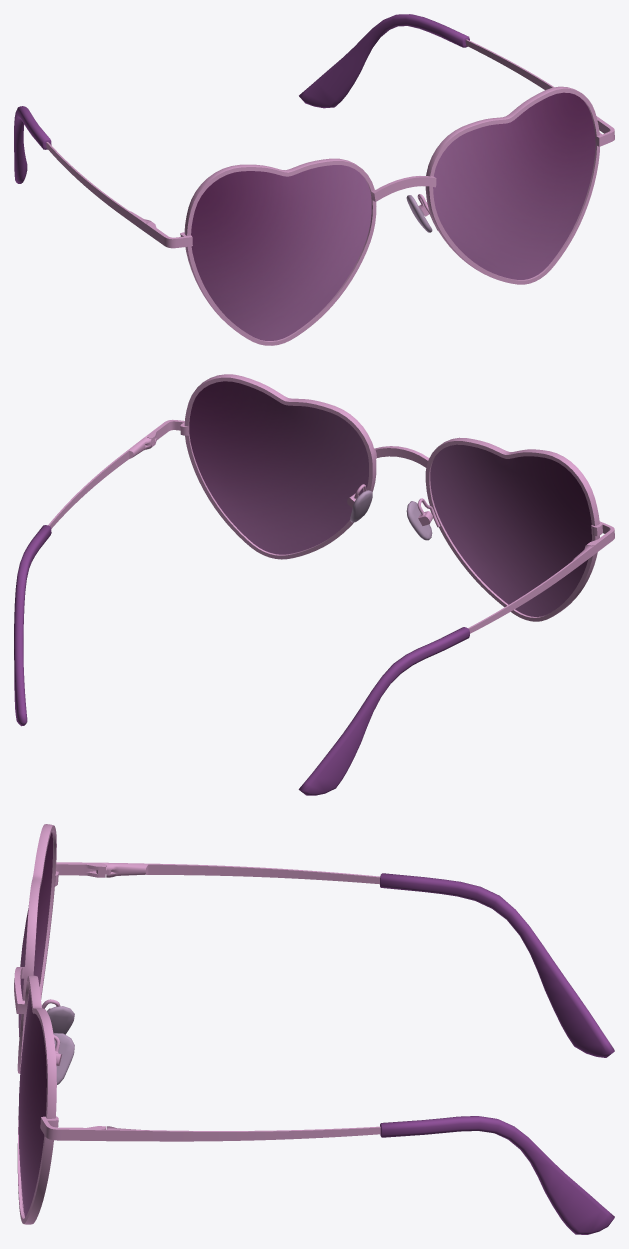
The model's file is SM_Glasses_06.FBX.
3 views of the same model, one above another, from view 1: azimuth 30°, elevation 25°; view 2: azimuth 150°, elevation 25°; view 3: azimuth 270°, elevation 25° (orthographic). The views are drawn at different scales.
Visible parts, largest first — view 1: SM_Glasses_06; view 2: SM_Glasses_06; view 3: SM_Glasses_06.
Part boxes in pixels (x1,y1,x2,y2): SM_Glasses_06: [14, 14, 614, 345]; SM_Glasses_06: [14, 374, 614, 795]; SM_Glasses_06: [14, 824, 614, 1234].
Size of the model in its own units: 13.62 by 5.49 by 14.35.
